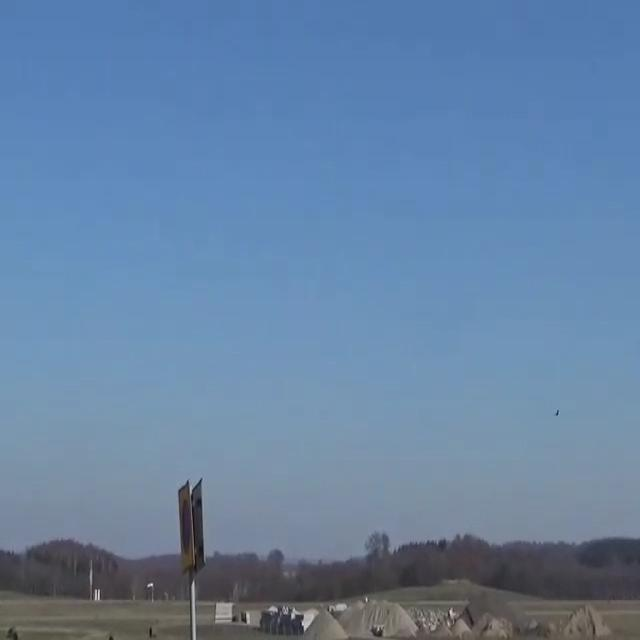bird: (551, 405, 561, 420)
